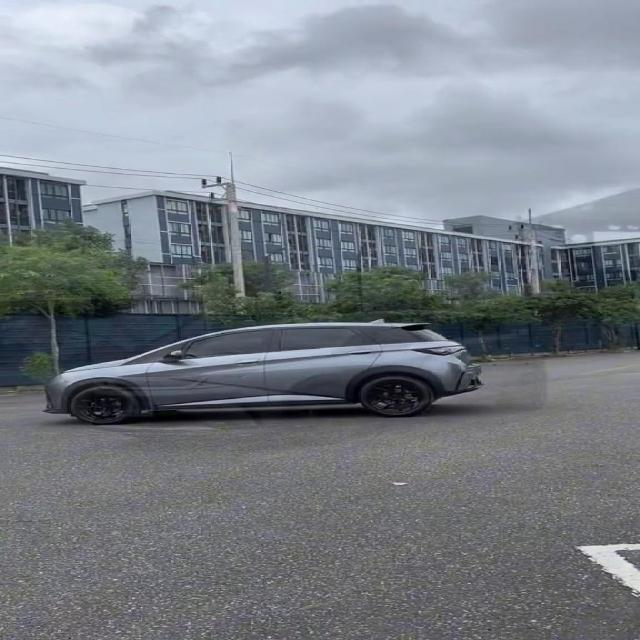Hatchback: (44, 320, 482, 425)
